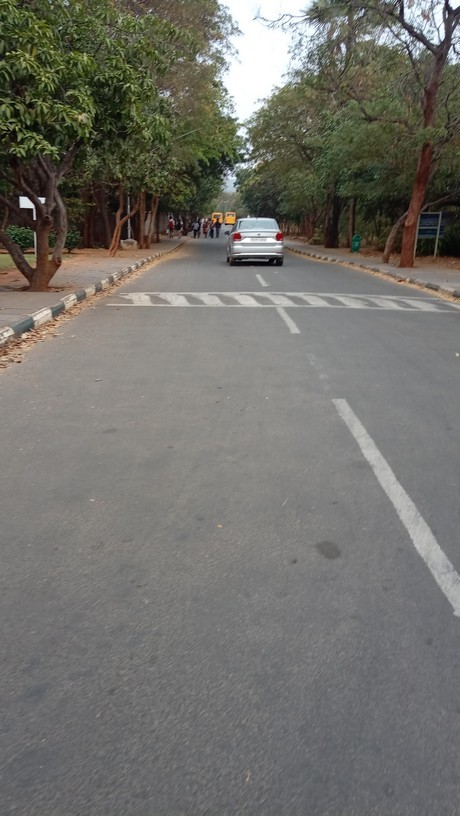bump: (98, 289, 454, 316)
